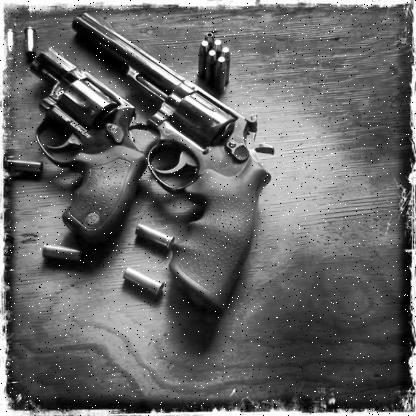gun: (70, 7, 276, 305), (31, 48, 152, 238)
